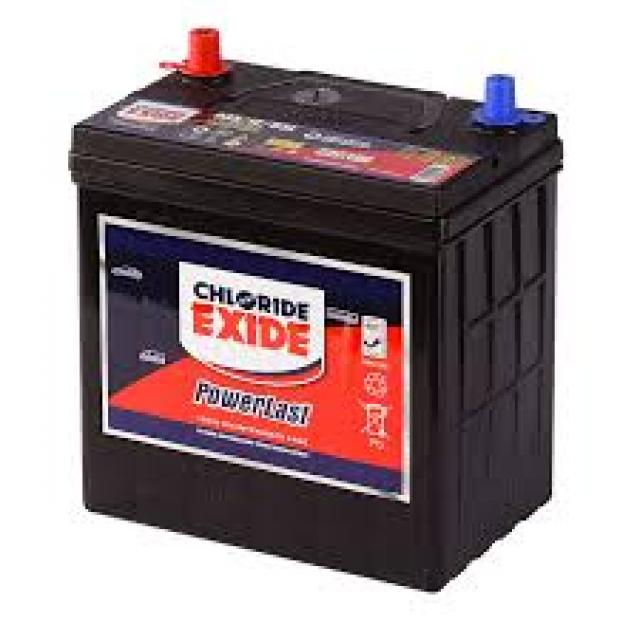non-organic waste: (67, 28, 562, 594)
